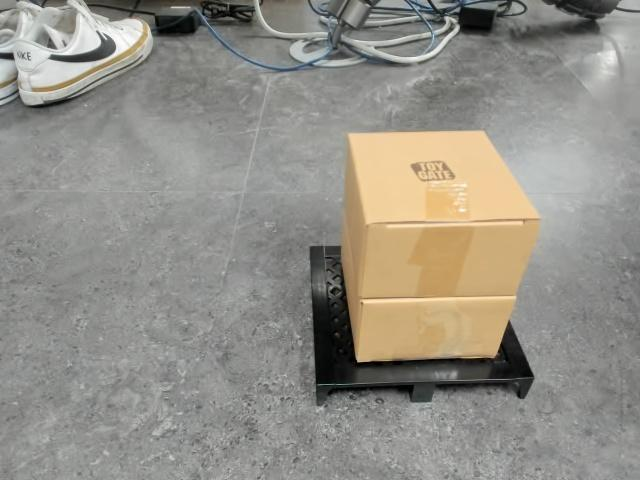box: (310, 129, 545, 407)
